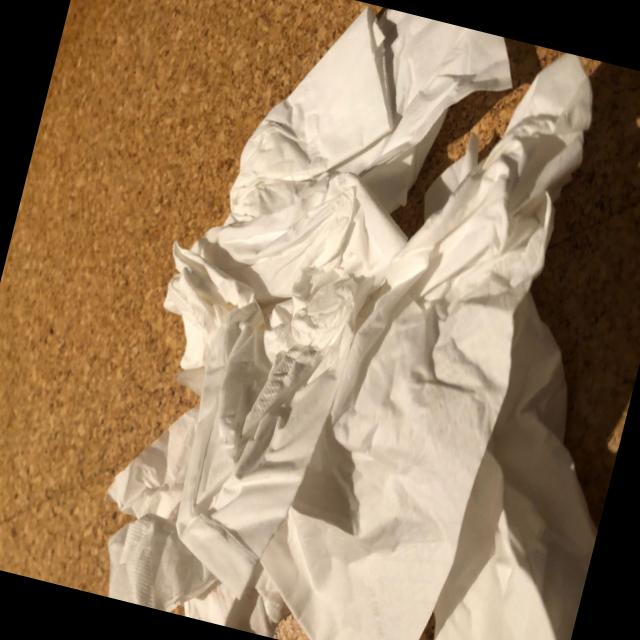organic waste: (240, 9, 607, 640), (76, 223, 393, 640), (212, 0, 521, 284), (421, 261, 640, 640)
